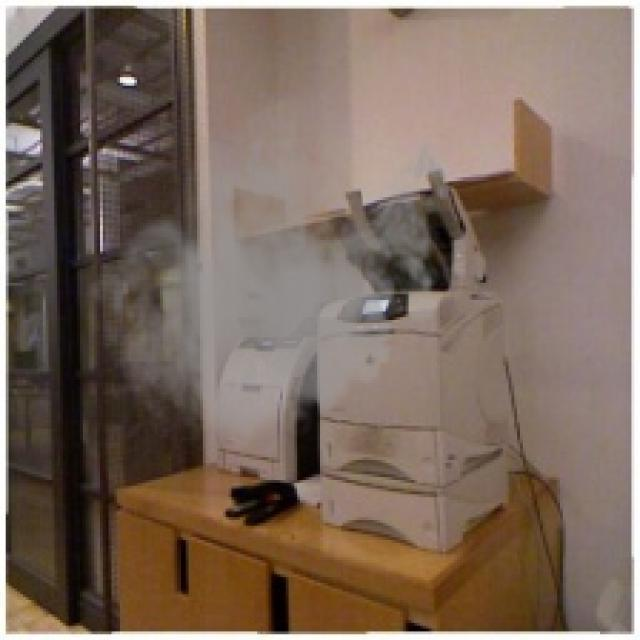Smoke: (86, 74, 460, 463)
